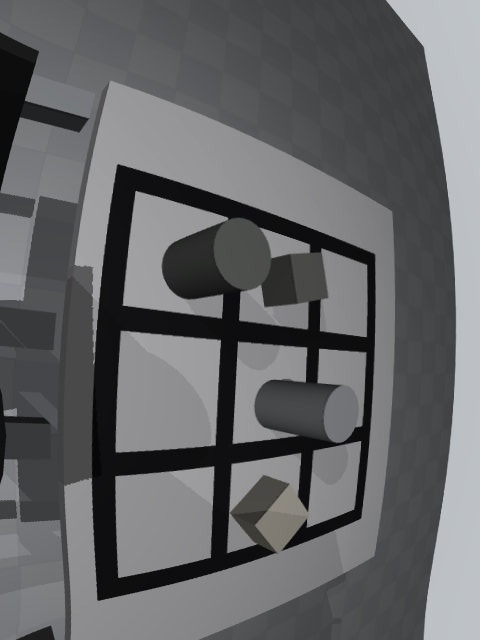can: (255, 380, 359, 443)
cube: (261, 252, 329, 308)
cylinder: (162, 218, 271, 300)
foam: (230, 475, 310, 554)
